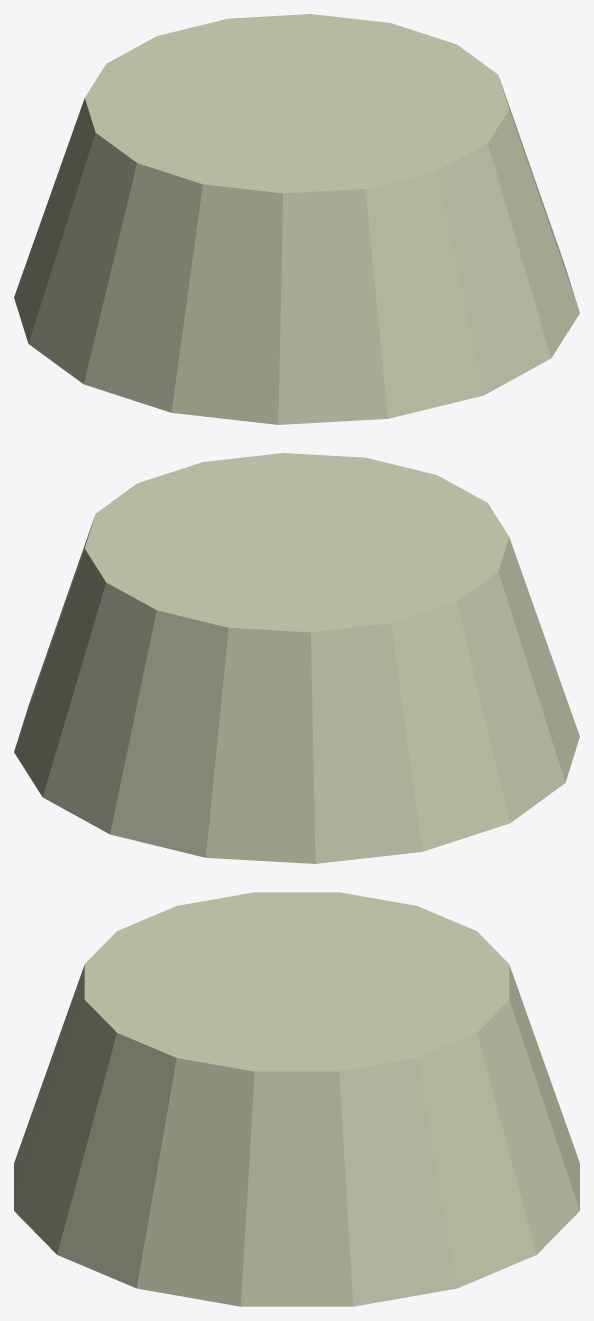
File: eridani_adapter_s1_s0p5_1_collider.obj
3 renders of one model, top to bottom at view 1: azimuth 30°, elevation 25°; view 2: azimuth 150°, elevation 25°; view 3: azimuth 270°, elevation 25°, orthographic.
Parts seen in each view (by area): view 1: collider; view 2: collider; view 3: collider.
Boxes of the visible parts, x1,y1,x2,y2 form: collider: [14, 14, 579, 424]; collider: [14, 453, 579, 863]; collider: [14, 892, 579, 1306].
Bounding box in the file's own units: 1.25 × 0.5 × 1.25.
